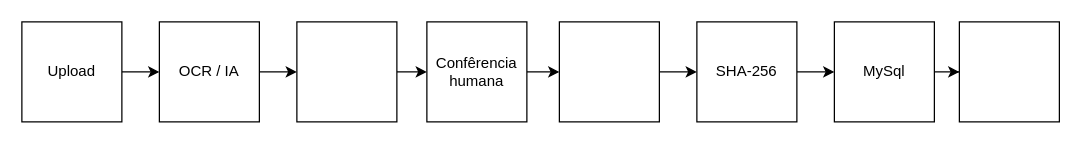
This 1081x144 diagram has some shape labels left out. The centre of each missing label's shape, as x and y in pixels:
"Histórico" goes at (1008,71).
"Metadados" goes at (346,71).
"Validação" goes at (608,71).
